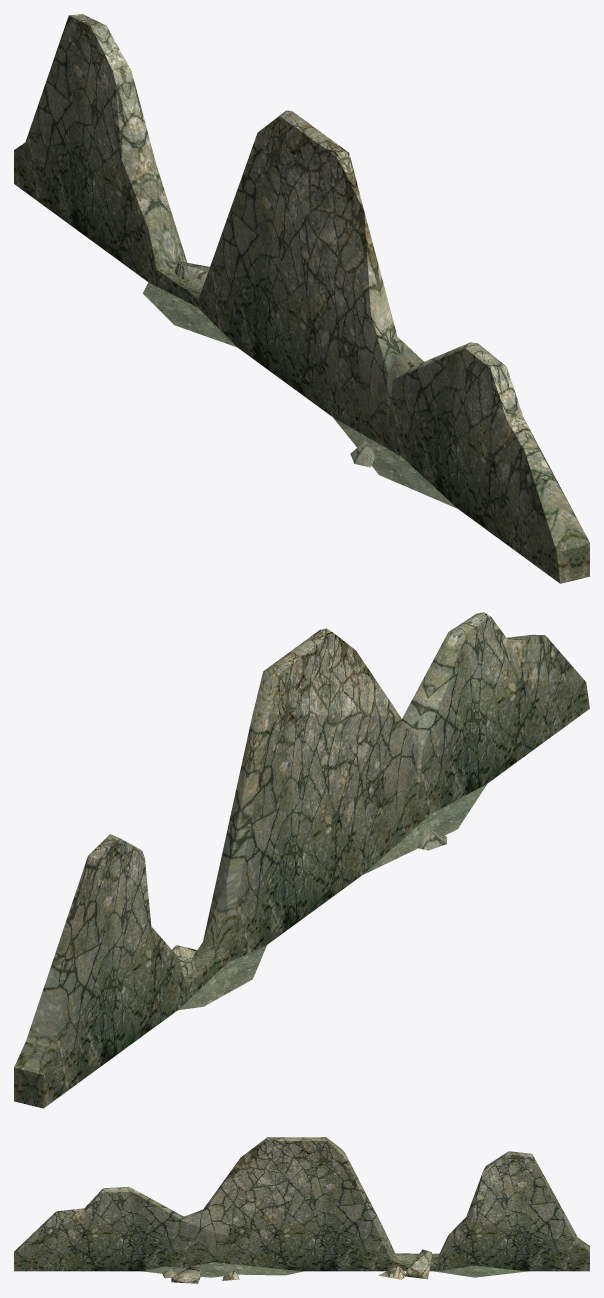
Rendered from thm_nboo_gungan_wall_ruined_lg_s01_l2.fbx.
The picture shows the model from 3 angles, top to bottom: view 1: azimuth 30°, elevation 25°; view 2: azimuth 150°, elevation 25°; view 3: azimuth 270°, elevation 25°; orthographic projection. The views are drawn at different scales.
Visible parts, largest first — view 1: mesh_node; view 2: mesh_node; view 3: mesh_node.
Part boxes in pixels (x1=…): mesh_node: x1=14, y1=14, x2=589, y2=583; mesh_node: x1=14, y1=612, x2=589, y2=1108; mesh_node: x1=14, y1=1137, x2=589, y2=1283.
Size of the model in its own units: 1.85 by 4.06 by 16.
